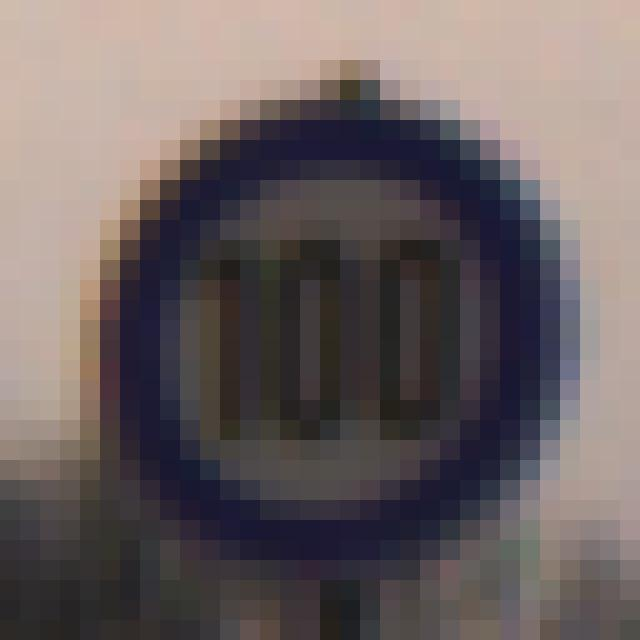SPEED LIMIT 100: (96, 85, 554, 559)
